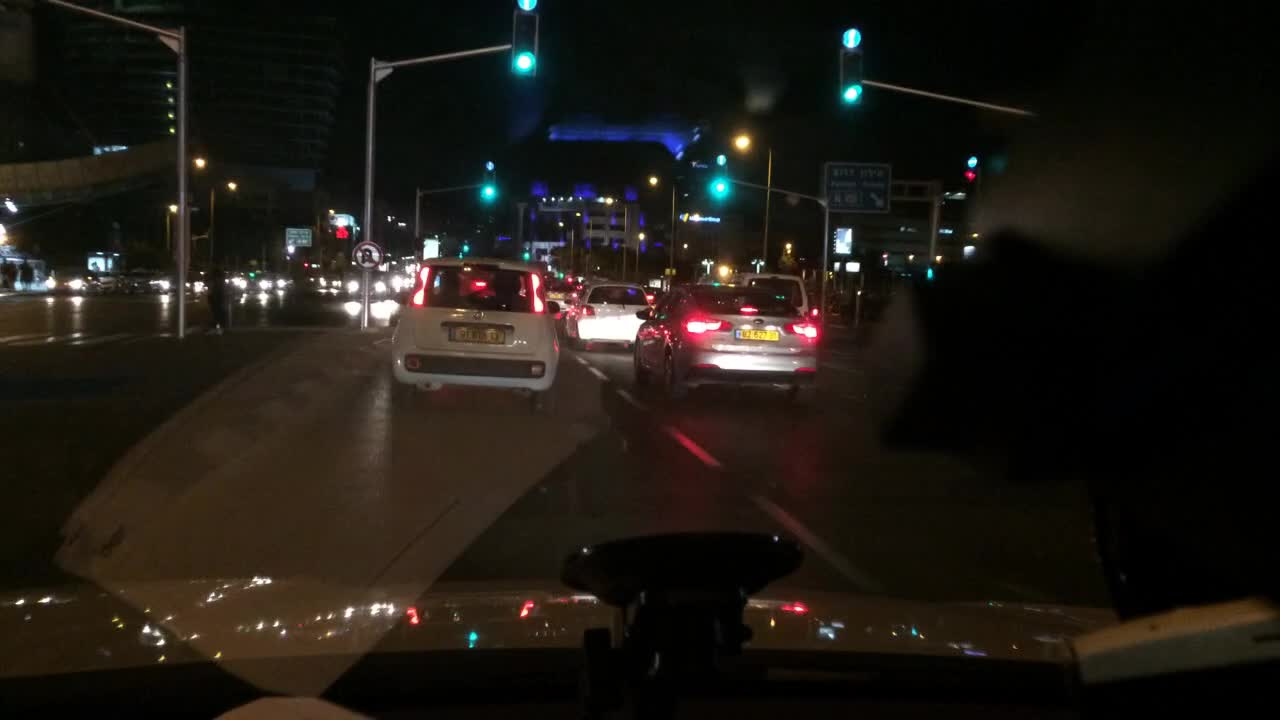car: (384, 255, 565, 410), (633, 264, 828, 404), (559, 280, 660, 349), (725, 271, 812, 320), (0, 255, 48, 297), (540, 273, 580, 313), (46, 267, 102, 294), (292, 259, 342, 288), (126, 265, 172, 295), (342, 267, 386, 295), (208, 269, 250, 294), (386, 267, 416, 295), (178, 267, 208, 294), (250, 269, 288, 290)
traffic light: (837, 21, 868, 111), (511, 0, 538, 80), (708, 153, 734, 200), (475, 156, 498, 206), (959, 147, 982, 183), (921, 259, 936, 282)
traffic sign: (816, 158, 894, 217), (347, 239, 384, 265), (281, 225, 315, 248)
